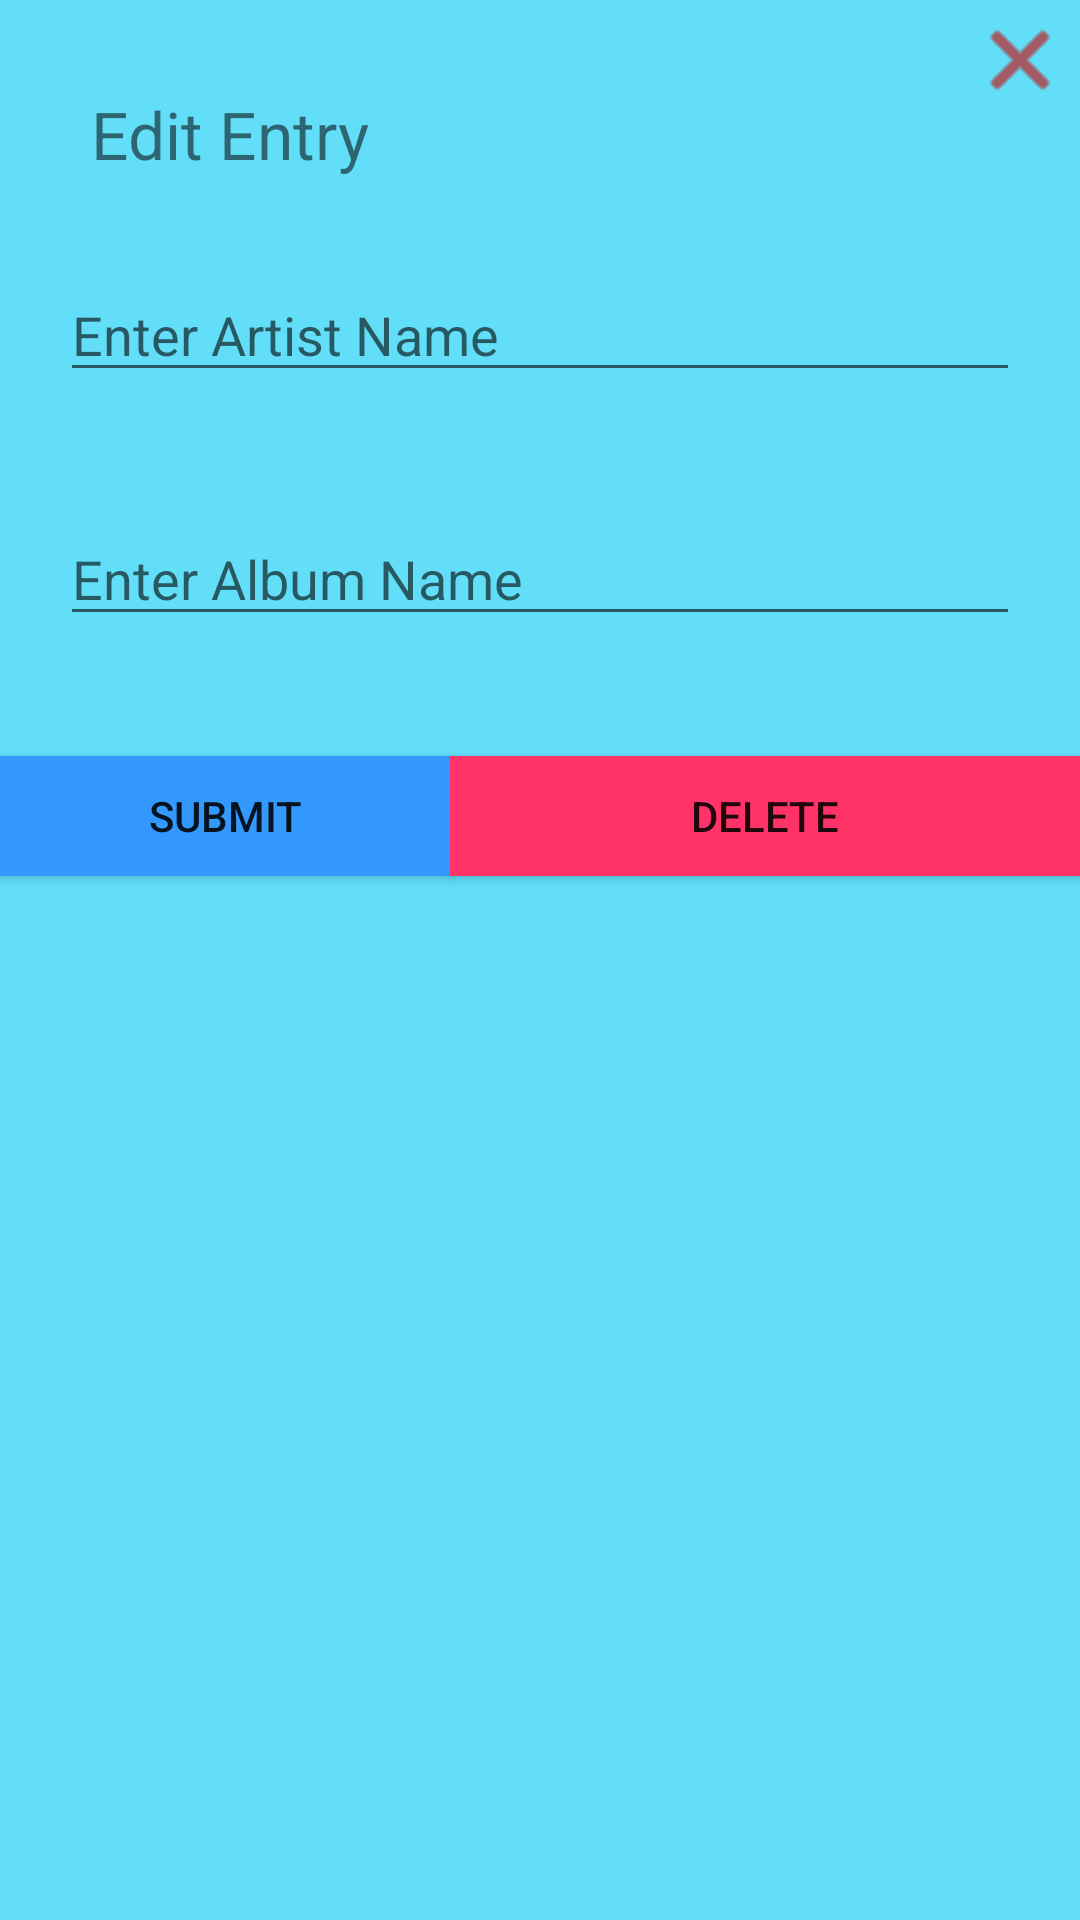

Screen size 1080w x 1920h. Icon name, then its center in pixels as [x,y]:
Close: [1020,60]
